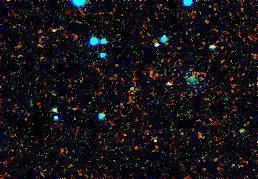star: (155, 61, 185, 91)
